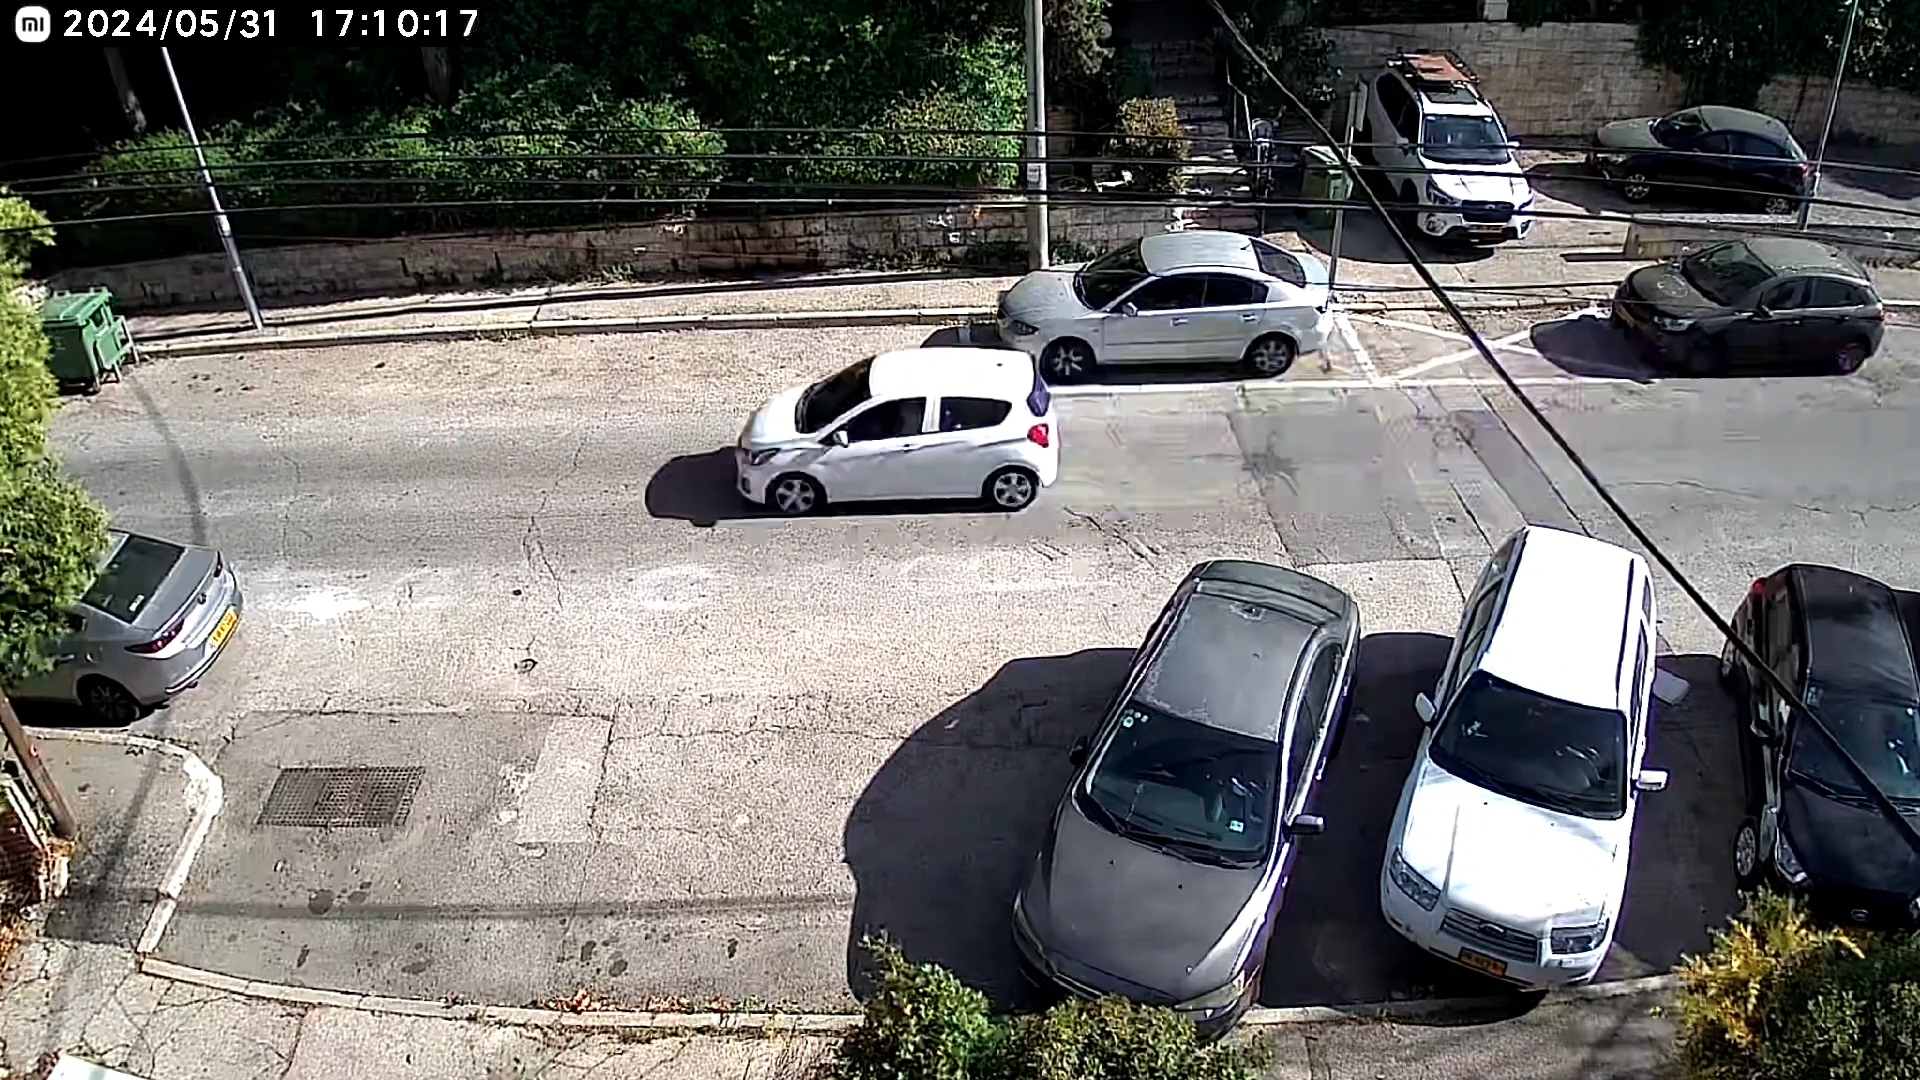moving car: (736, 342, 1065, 524)
